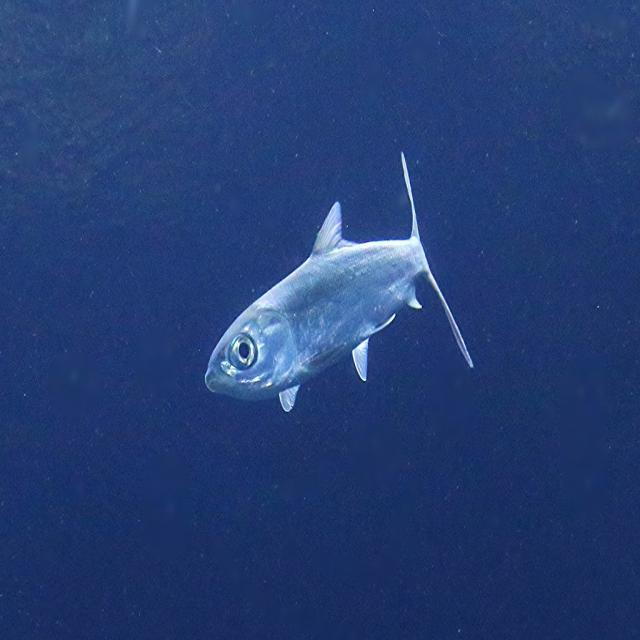Bangus: (160, 119, 547, 457)
